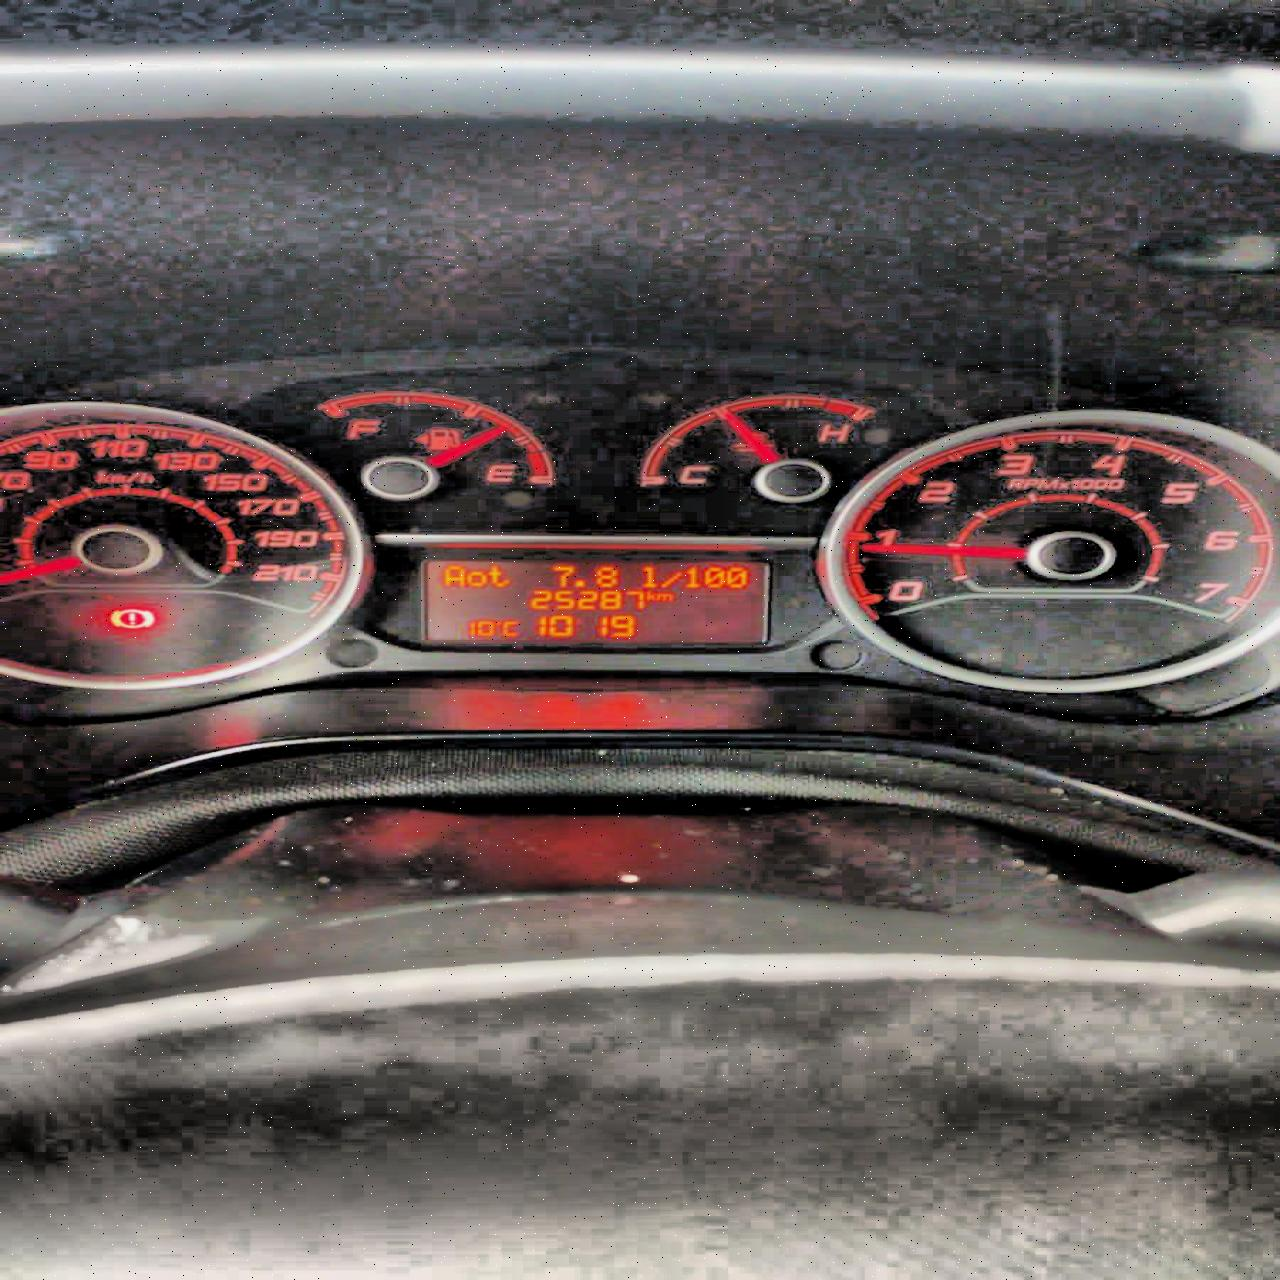-: (572, 578, 586, 588)
0: (547, 613, 574, 636), (726, 566, 748, 588), (702, 565, 723, 588), (475, 620, 493, 636)
1: (685, 564, 701, 588), (535, 614, 547, 636), (598, 614, 608, 636), (468, 621, 475, 636)
2: (529, 590, 552, 610), (574, 590, 598, 610)
5: (551, 590, 574, 610)
7: (547, 565, 574, 588), (622, 590, 645, 610)
8: (593, 565, 617, 588), (599, 590, 621, 610)
9: (608, 614, 635, 638)
X: (486, 564, 511, 588), (442, 564, 465, 588), (639, 564, 658, 588), (660, 571, 683, 588), (465, 570, 488, 587), (645, 590, 675, 601), (499, 619, 519, 636)
odometer: (416, 557, 774, 646)
